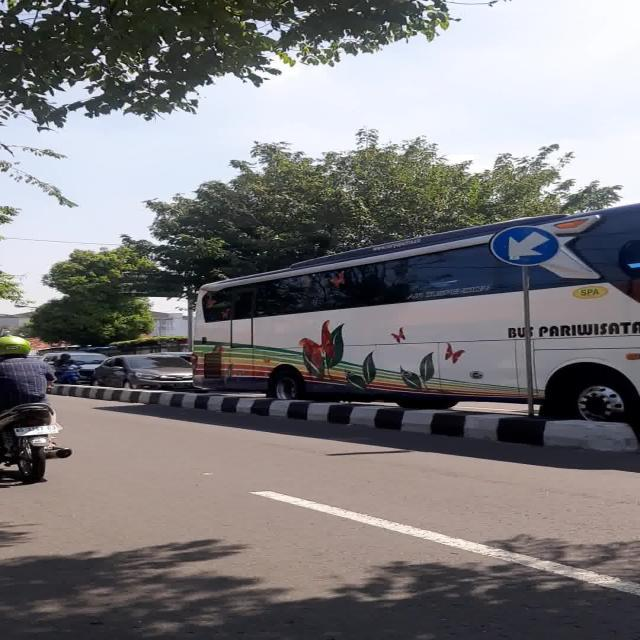Lajur Kiri: (490, 226, 559, 266)
